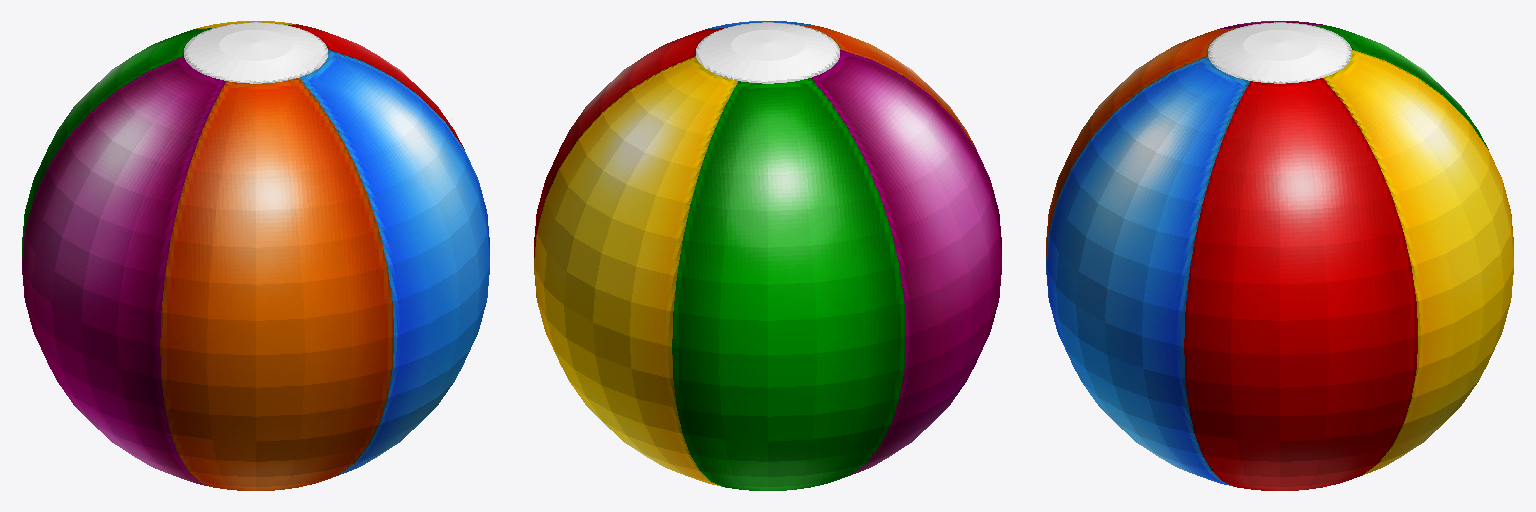
3 renders of one model, left to right at view 1: azimuth 30°, elevation 25°; view 2: azimuth 150°, elevation 25°; view 3: azimuth 270°, elevation 25°, orthographic.
Visible parts, largest first — view 1: Beachball1; view 2: Beachball1; view 3: Beachball1.
Boxes of the visible parts, x1=… form: Beachball1: x1=22, y1=21, x2=489, y2=490; Beachball1: x1=534, y1=21, x2=1001, y2=490; Beachball1: x1=1046, y1=21, x2=1513, y2=490.
Size of the model in its own units: 2.2 by 2.2 by 2.19.
1 materials, 1 textured.